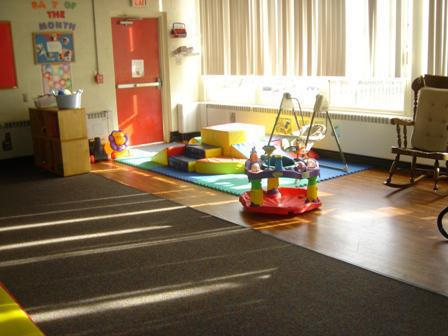Otro Obstaculo: (241, 147, 328, 222), (163, 119, 276, 173), (94, 133, 134, 161)
Puerta: (113, 24, 164, 146)
Ventana: (199, 2, 432, 116)
